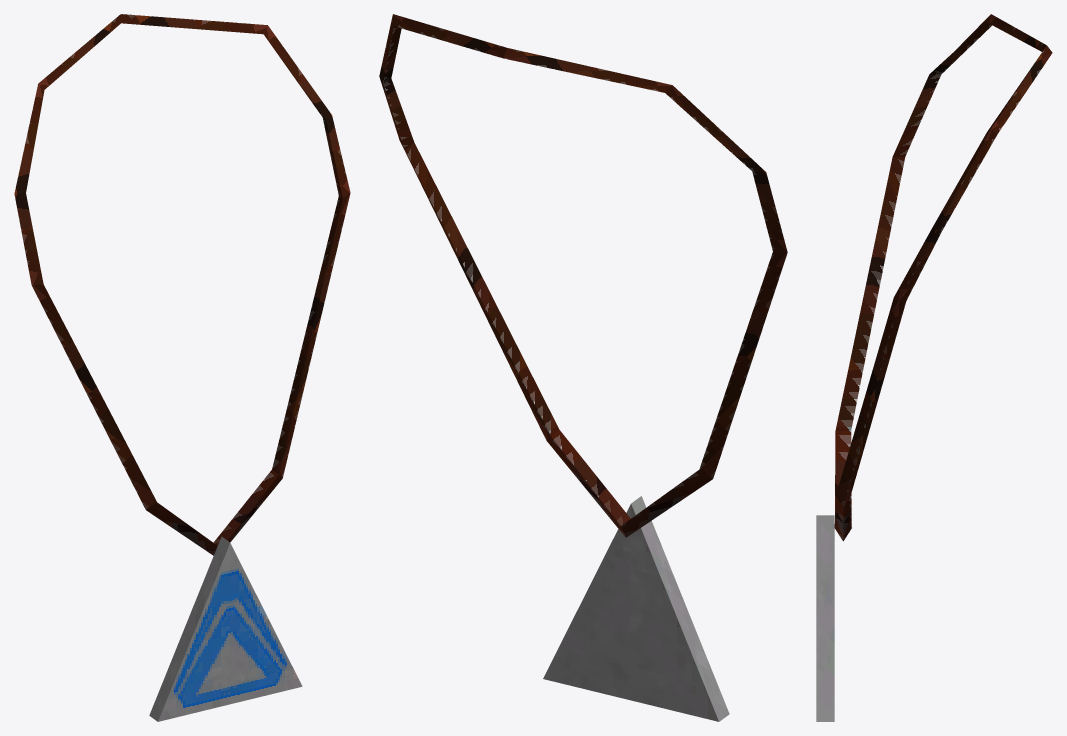
File: atf_jedi_dark_side_amulet_l1.fbx
The picture shows the model from 3 angles, left to right: view 1: azimuth 30°, elevation 25°; view 2: azimuth 150°, elevation 25°; view 3: azimuth 270°, elevation 25°; orthographic projection. The views are drawn at different scales.
Visible parts, largest first — view 1: mesh_node; view 2: mesh_node; view 3: mesh_node.
Part boxes in pixels (bbox=[...]): mesh_node: bbox=[14, 14, 350, 721]; mesh_node: bbox=[379, 14, 787, 721]; mesh_node: bbox=[816, 14, 1052, 721].
Size of the model in its own units: 0.1045 by 0.191 by 0.0639.
